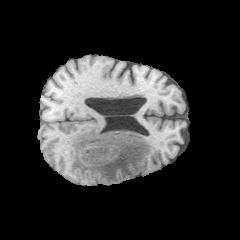glioma: (69, 127, 151, 182)
